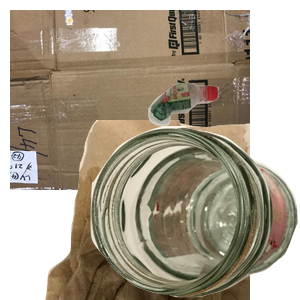cardboard: (10, 10, 250, 190)
glass: (90, 126, 300, 300)
plastic: (146, 80, 300, 198)
trash: (43, 120, 283, 300)
